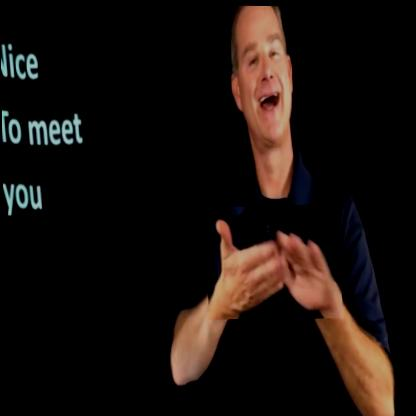NiceToMeetYou: (203, 201, 342, 321)
